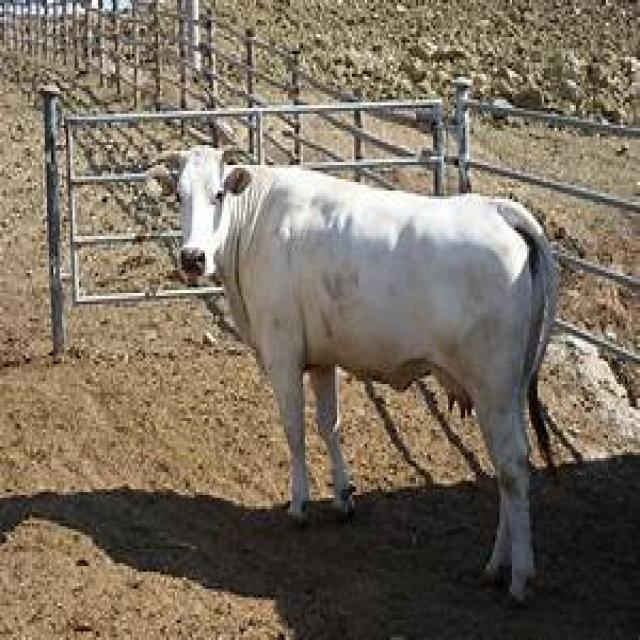cow: (175, 145, 561, 609)
